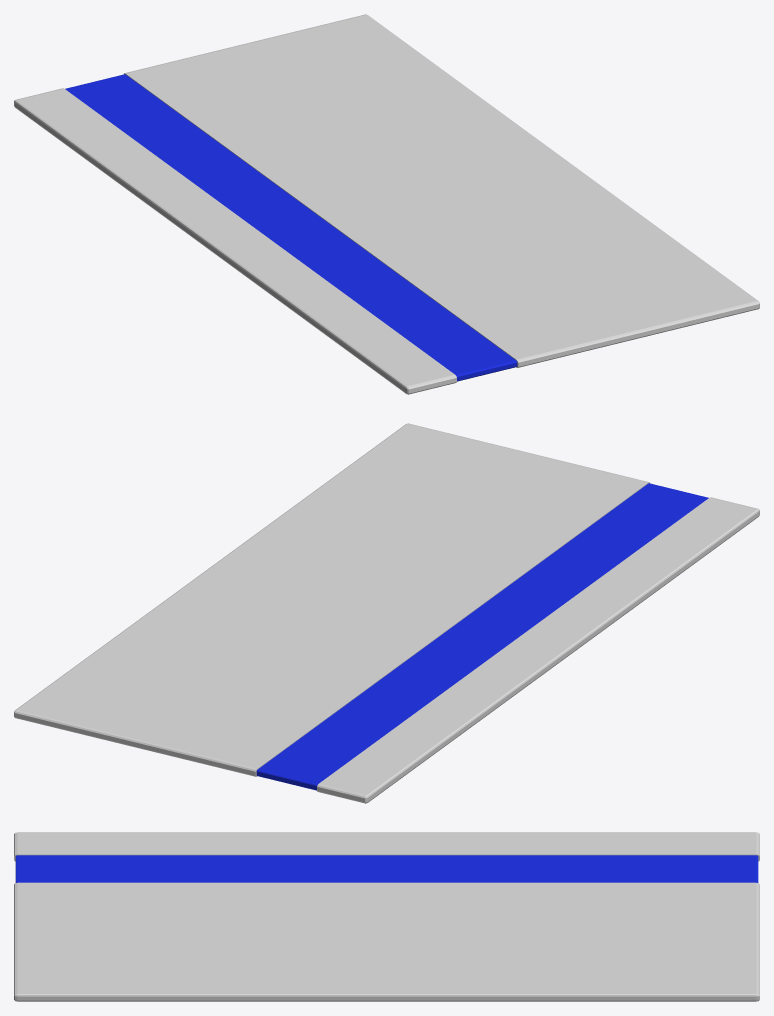
File: MagneticCard.fbx
The picture shows the model from 3 angles, top to bottom: view 1: azimuth 30°, elevation 25°; view 2: azimuth 150°, elevation 25°; view 3: azimuth 270°, elevation 25°; orthographic projection. The views are drawn at different scales.
Parts seen in each view (by area): view 1: Plane; view 2: Plane; view 3: Plane.
Boxes of the visible parts, box(x1,y1,x2,y2) form: Plane: box(14, 14, 759, 394); Plane: box(14, 423, 759, 803); Plane: box(14, 832, 759, 1001).
Bounding box in the file's own units: 200 × 386 × 4.21.
